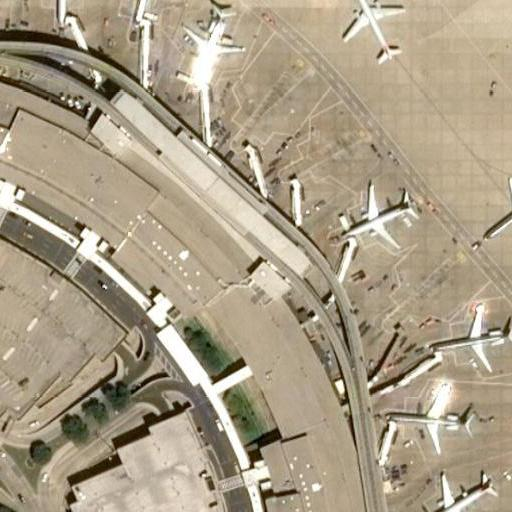Aircraft: (180, 0, 253, 95), (429, 296, 512, 369), (339, 0, 408, 74), (422, 465, 506, 509), (484, 167, 512, 242), (21, 0, 95, 22), (118, 0, 175, 25), (0, 0, 2, 6)
